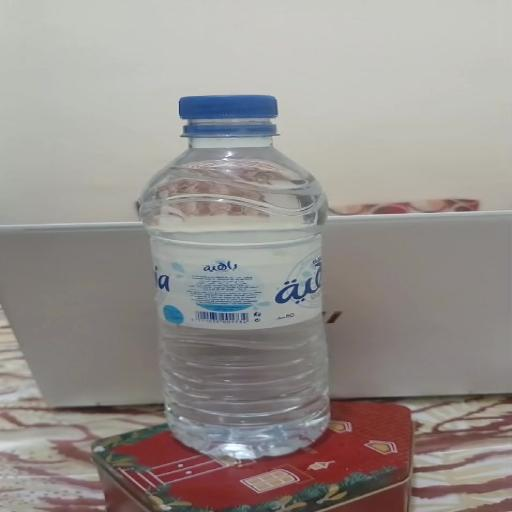bouteille non conformite: (107, 82, 368, 458), (132, 92, 303, 156)
